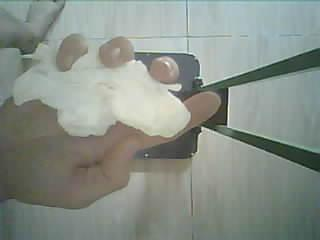paper: (14, 34, 191, 138)
